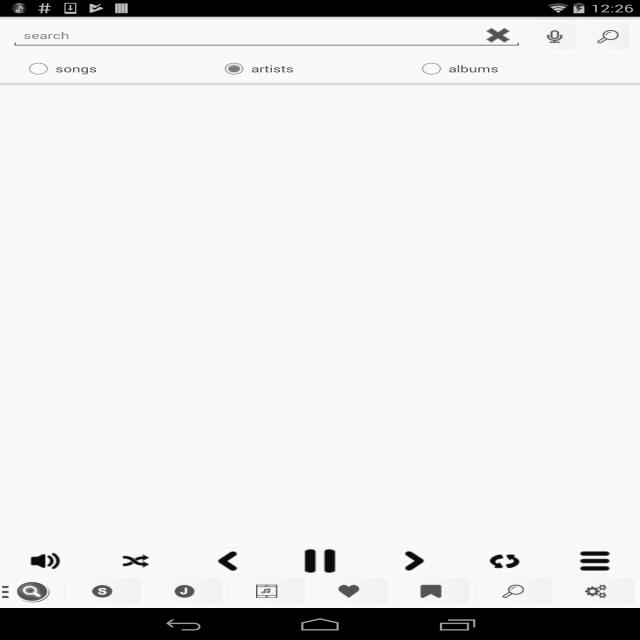EditText: (10, 23, 522, 48)
ImageButton: (272, 549, 368, 573), (310, 578, 388, 605), (392, 578, 470, 605), (557, 578, 635, 605), (64, 578, 141, 605), (146, 578, 223, 605), (228, 578, 305, 605), (475, 578, 552, 605), (0, 551, 91, 571), (181, 551, 272, 571), (368, 551, 459, 571), (549, 551, 640, 571), (91, 551, 181, 571), (459, 551, 549, 571), (533, 23, 576, 50), (592, 578, 635, 605), (587, 23, 629, 50)
ImageView: (11, 578, 53, 605), (0, 585, 11, 598)
RadioButton: (414, 58, 619, 79), (217, 58, 414, 79), (21, 58, 217, 79)
Spinner: (54, 579, 184, 603)
TextView: (58, 584, 168, 598)
